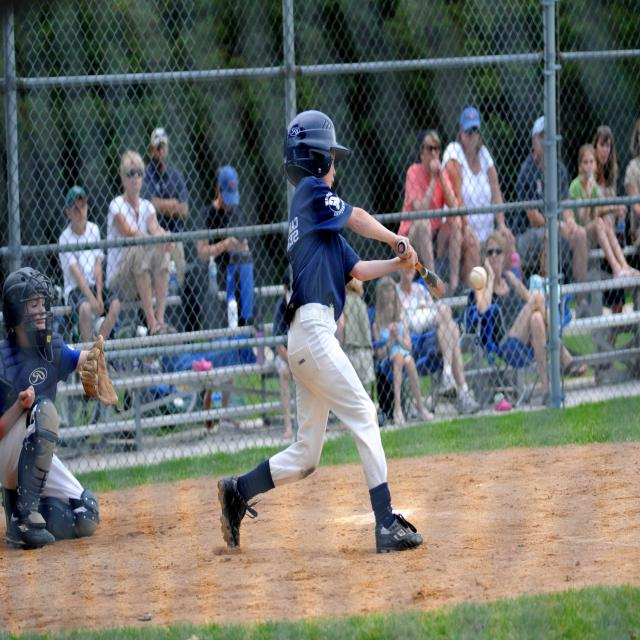adult: (216, 110, 421, 547), (0, 266, 94, 538), (476, 228, 546, 403), (108, 150, 168, 335), (515, 119, 587, 272), (59, 186, 121, 343), (401, 130, 459, 290), (198, 164, 253, 326), (570, 143, 635, 279), (444, 106, 513, 231), (376, 276, 426, 419), (144, 126, 189, 284), (592, 123, 618, 195)
